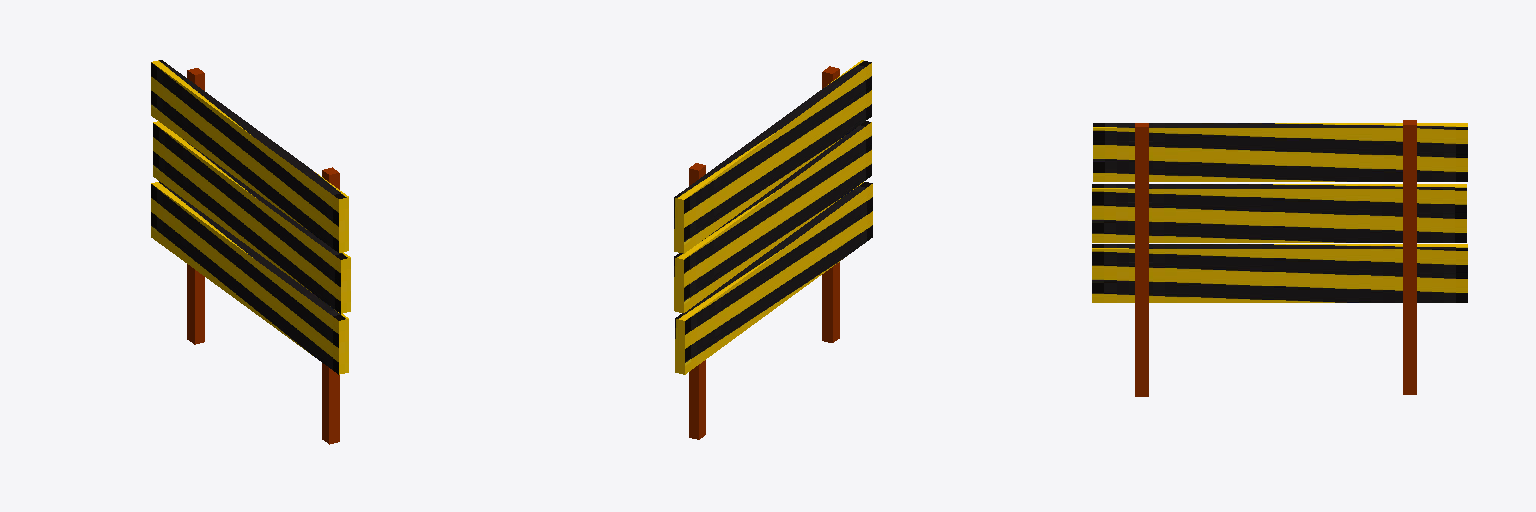
3 views of the same model, side by side, from view 1: azimuth 30°, elevation 25°; view 2: azimuth 150°, elevation 25°; view 3: azimuth 270°, elevation 25° (orthographic).
Visible parts, largest first — view 1: Cube.002_Cube.005, Cube.001_Cube.004, Cube_Cube.003, Cube.003_Cube.006, Cube.004_Cube.007; view 2: Cube.002_Cube.005, Cube.001_Cube.004, Cube_Cube.003, Cube.004_Cube.007, Cube.003_Cube.006; view 3: Cube.001_Cube.004, Cube_Cube.003, Cube.002_Cube.005, Cube.003_Cube.006, Cube.004_Cube.007.
Part boxes in pixels (x1,y1,x2,y2): Cube.002_Cube.005: (151,60,348,252); Cube.001_Cube.004: (151,181,348,374); Cube_Cube.003: (153,121,350,313); Cube.003_Cube.006: (187,68,204,344); Cube.004_Cube.007: (322,167,339,444); Cube.002_Cube.005: (674,60,871,253); Cube.001_Cube.004: (675,182,872,374); Cube_Cube.003: (674,121,871,312); Cube.004_Cube.007: (822,66,839,342); Cube.003_Cube.006: (689,163,705,439); Cube.001_Cube.004: (1092,244,1467,302); Cube_Cube.003: (1092,184,1466,242); Cube.002_Cube.005: (1093,123,1467,181); Cube.003_Cube.006: (1403,120,1416,394); Cube.004_Cube.007: (1135,123,1148,396).
Bounding box in the file's own units: 0.1341 × 1.59 × 2.01.
2 materials, 1 textured.